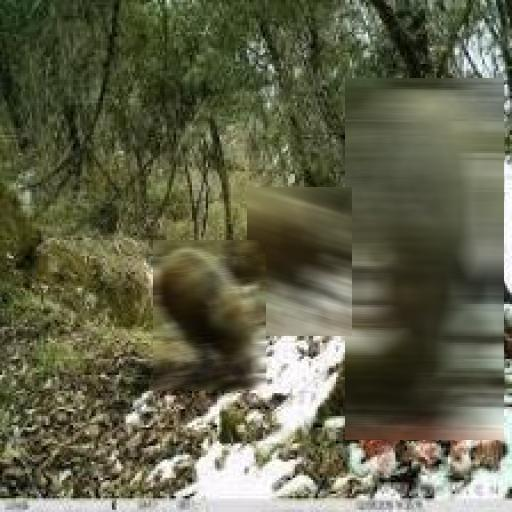Pig: (345, 78, 504, 440), (153, 240, 266, 390), (247, 187, 352, 336)
